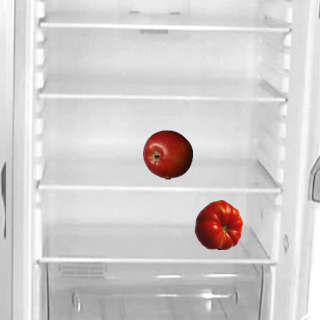Apple Braeburn: (142, 129, 192, 179)
Tomato 3: (193, 199, 243, 249)
